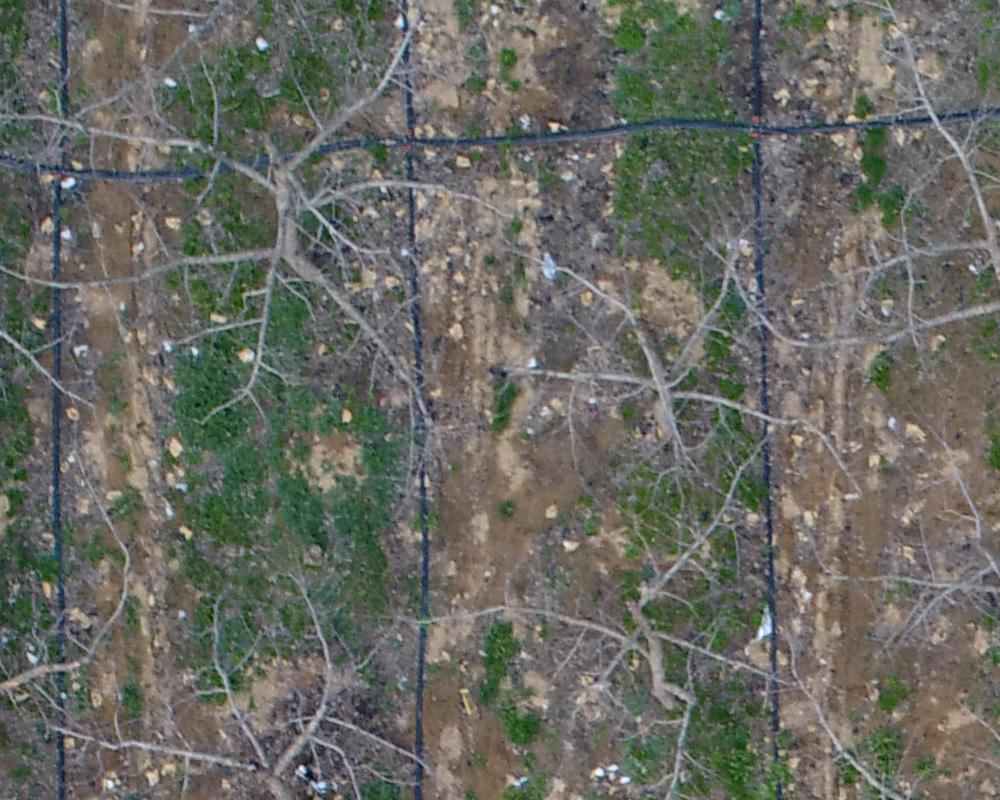apple: (10, 26, 507, 469), (419, 438, 802, 790), (502, 217, 825, 517), (29, 569, 452, 790), (805, 432, 990, 687)
